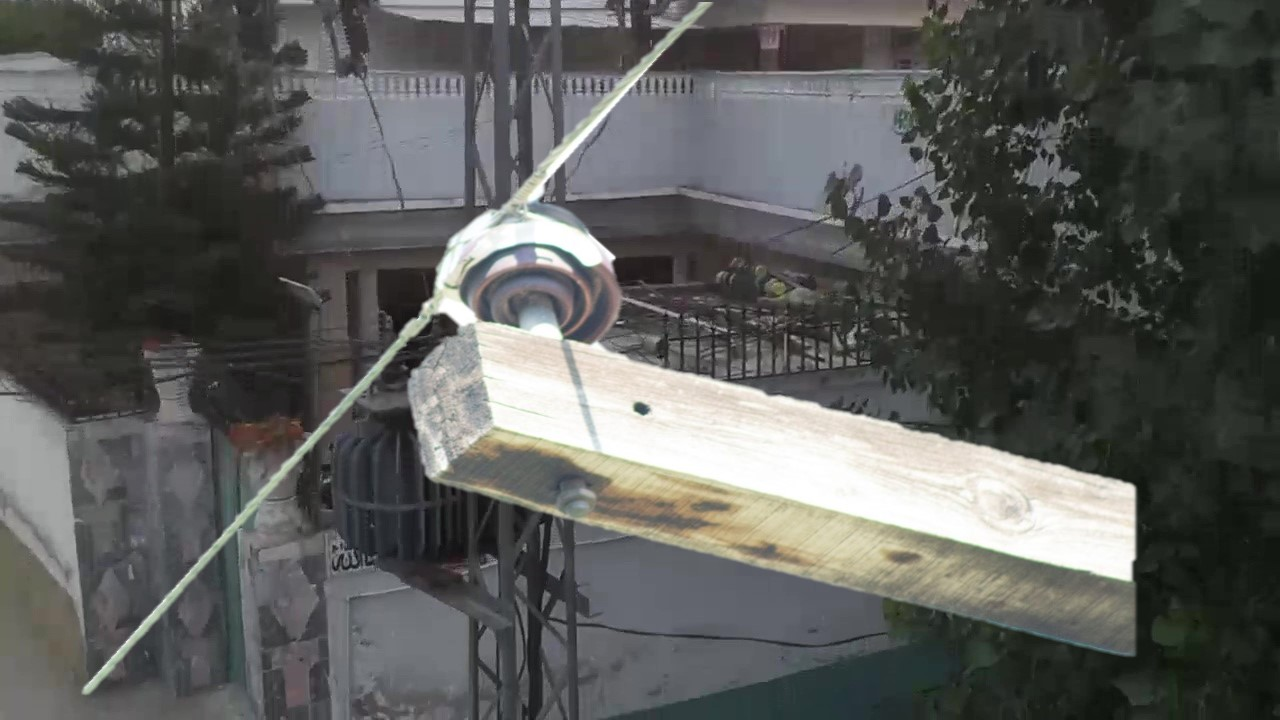defect_pin: (431, 193, 630, 341)
